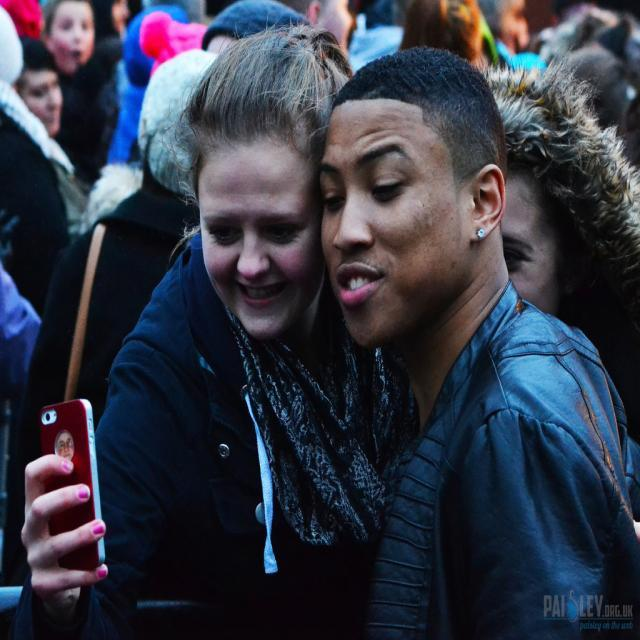phone: (23, 399, 109, 587)
